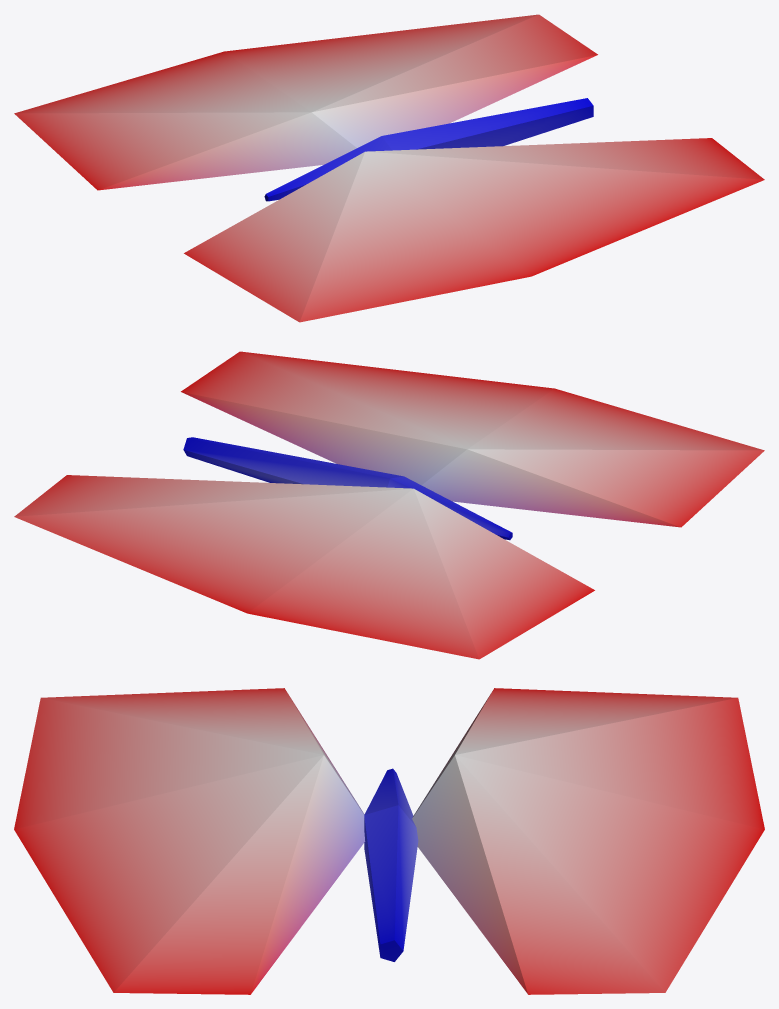
Rendered from Butterfly.fbx.
3 renders of one model, top to bottom at view 1: azimuth 30°, elevation 25°; view 2: azimuth 150°, elevation 25°; view 3: azimuth 270°, elevation 25°, orthographic. The views are drawn at different scales.
Visible parts, largest first — view 1: butterfly00; view 2: butterfly00; view 3: butterfly00.
Boxes of the visible parts, x1=… form: butterfly00: x1=14, y1=14, x2=764, y2=322; butterfly00: x1=14, y1=351, x2=764, y2=659; butterfly00: x1=14, y1=688, x2=764, y2=994.
Bounding box in the file's own units: 142 × 16.21 × 147.
